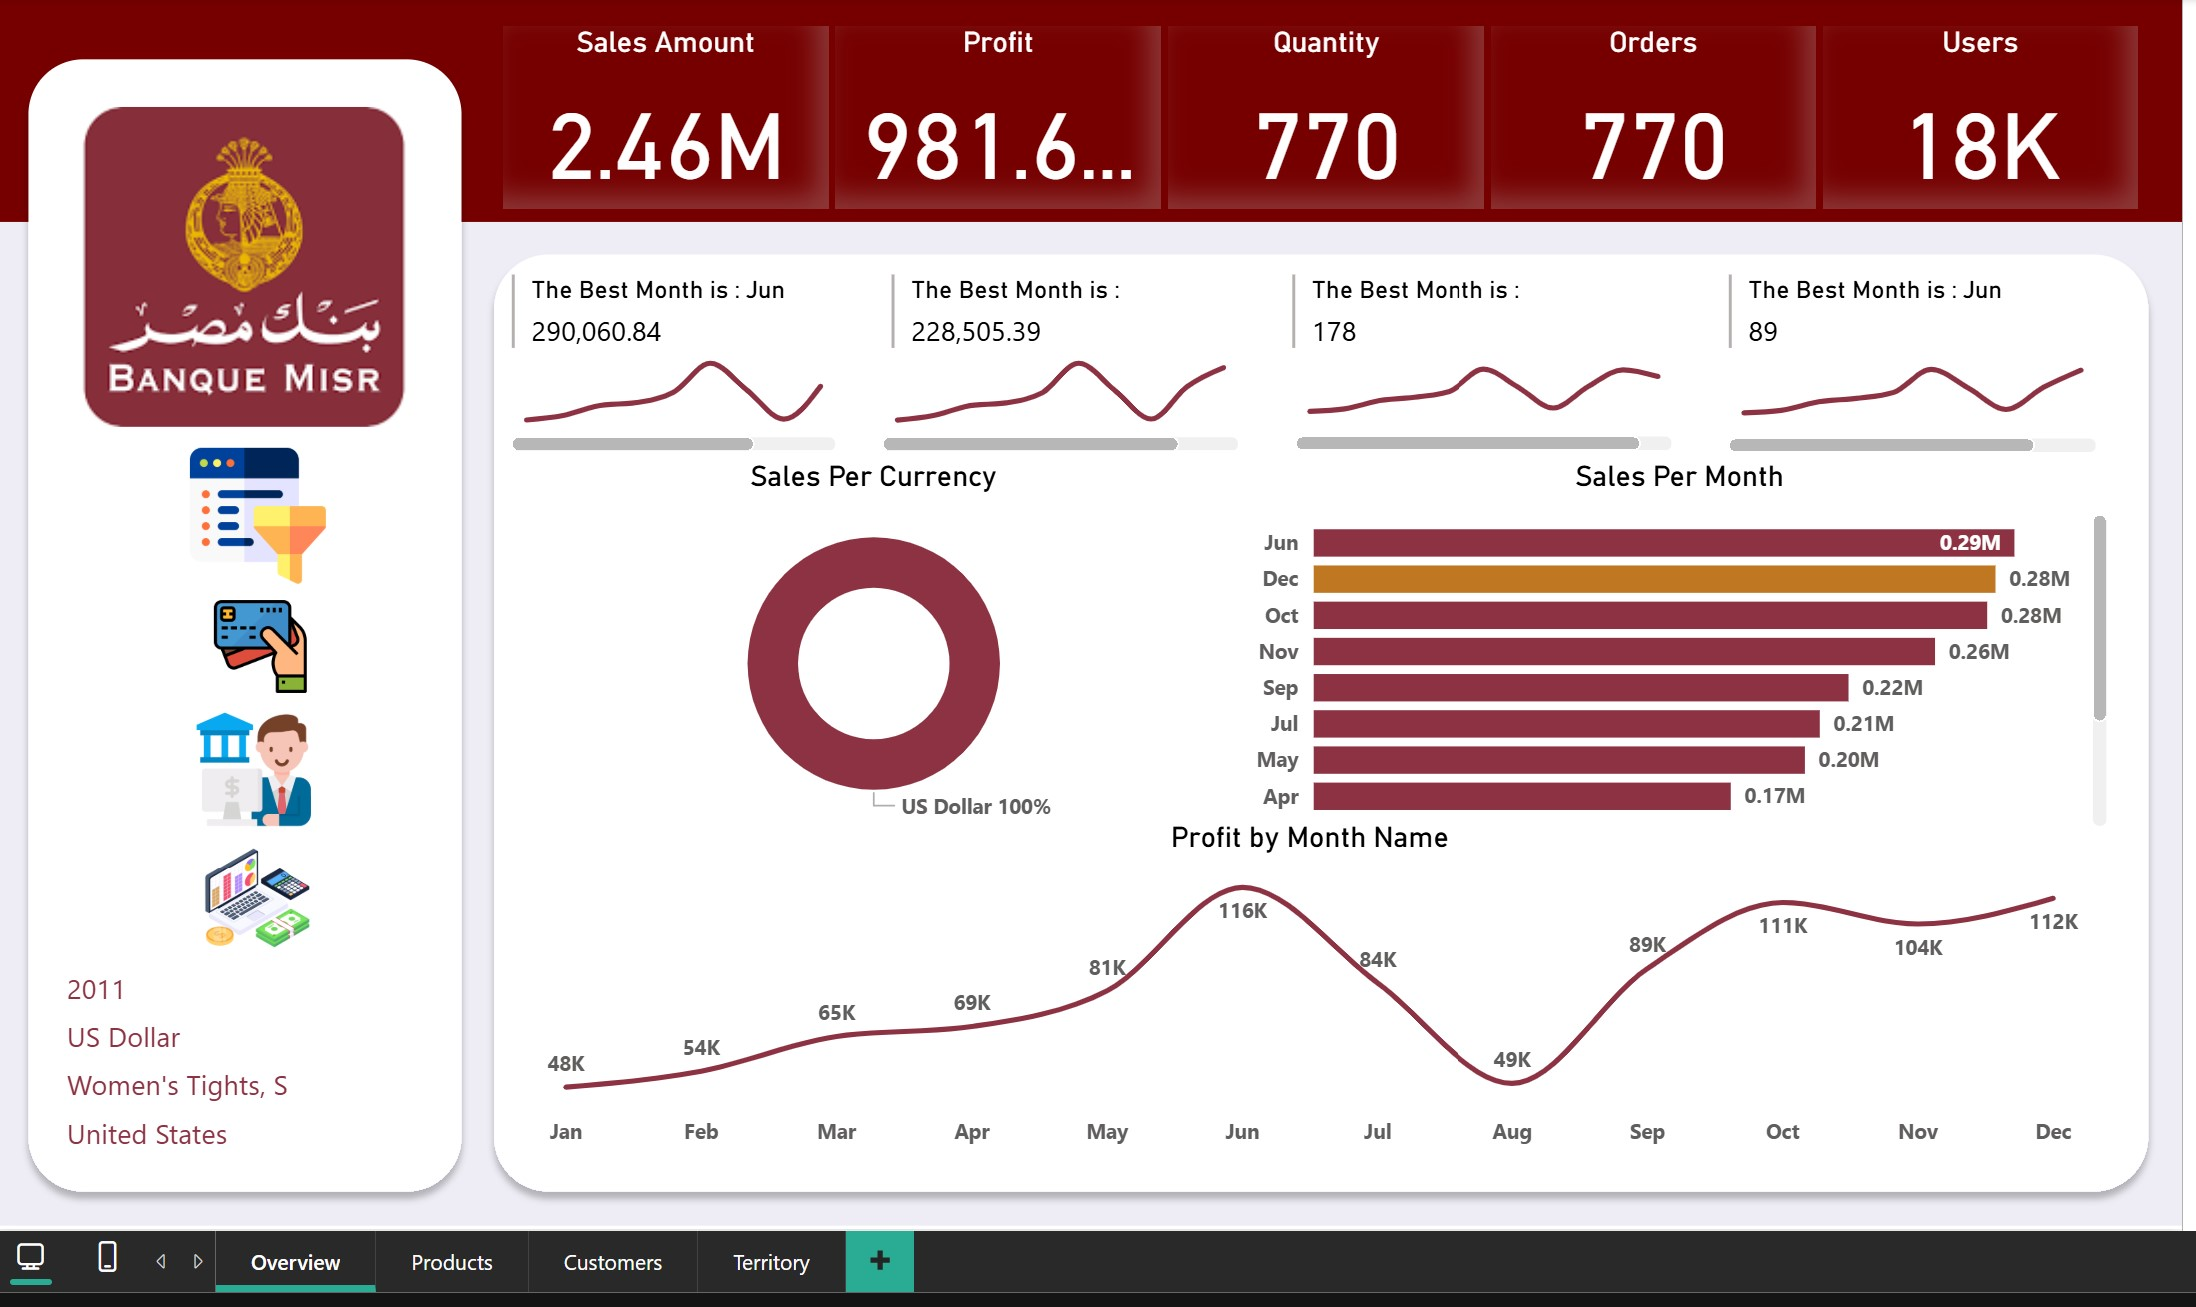

This screenshot's page, from the dashboard's own definition file:
{"tool":"powerbi","page":{"name":"Overview","canvas":[1280,720],"ordinal":0},"visuals":[{"type":"image","box":[47.3,56,201.5,201.5],"z":0},{"type":"donutChart","title":"Sales Per Currency","fields":{"Category":["dim_Currency.CurrencyName"],"Y":["Sum(fact_InternetSales.SalesAmount)"]},"box":[299,270,432.9,218.7],"z":1000},{"type":"clusteredBarChart","title":"Sales Per Month","fields":{"Category":["Calendar.Month Name"],"Y":["Sum(fact_InternetSales.SalesAmount)"]},"box":[732,270,508.8,218.7],"z":2000},{"type":"lineChart","fields":{"Category":["Calendar.Month Name"],"Y":["fact_InternetSales.Profit"]},"box":[298.5,480.1,942.8,200.2],"z":3000},{"type":"multiRowCard","fields":{"Values":["fact_InternetSales.Best Month","Sum(fact_InternetSales.SalesAmount)"]},"box":[298.5,156.2,199,113.2],"z":4000},{"type":"lineChart","fields":{"Y":["Sum(fact_InternetSales.SalesAmount)"],"Category":["Calendar.Month Name"]},"box":[298.5,197.8,199,72.1],"z":5000},{"type":"multiRowCard","fields":{"Values":["fact_InternetSales.Best Month","fact_InternetSales.Profit"]},"box":[520.7,156.2,210.6,113.4],"z":6000},{"type":"lineChart","fields":{"Category":["Calendar.Month Name"],"Y":["fact_InternetSales.Profit"]},"box":[514.9,197.8,217.7,72.1],"z":7000},{"type":"multiRowCard","fields":{"Values":["fact_InternetSales.Best Month","fact_InternetSales.SalesOrderNumber"]},"box":[754.5,156.2,232.6,113.4],"z":8000},{"type":"lineChart","fields":{"Category":["Calendar.Month Name"],"Y":["fact_InternetSales.Orders"]},"box":[756.1,197.8,230.3,71.8],"z":9000},{"type":"multiRowCard","fields":{"Values":["fact_InternetSales.Best Month","Sum(fact_InternetSales.OrderQuantity)"]},"box":[1010.3,156.2,224.5,113.4],"z":10000},{"type":"lineChart","fields":{"Category":["Calendar.Month Name"],"Y":["Sum(fact_InternetSales.OrderQuantity)"]},"box":[1010.3,197.8,224.5,72.9],"z":11000},{"type":"image","box":[82.1,411.7,141.8,77.1],"z":21000},{"type":"image","box":[78.4,488.8,153,74.6],"z":22000},{"type":"image","box":[73.4,347,166.7,64.7],"z":23000},{"type":"card","title":"Sales Amount","fields":{"Values":["Sum(fact_InternetSales.SalesAmount)"]},"box":[298.8,16,190.1,107],"z":24000},{"type":"card","title":"Users","fields":{"Values":["dim_Customer.All users"]},"box":[1070.4,16,183.7,107],"z":25000},{"type":"card","title":"Orders","fields":{"Values":["fact_InternetSales.Orders"]},"box":[876.3,16,190.1,107],"z":26000},{"type":"card","title":"Quantity","fields":{"Values":["Sum(fact_InternetSales.OrderQuantity)"]},"box":[687,16,185.3,107],"z":27000},{"type":"card","title":"Profit","fields":{"Values":["fact_InternetSales.Profit"]},"box":[492.9,16,190.1,107],"z":28000},{"type":"multiRowCard","fields":{"Values":["fact_InternetSales.yearfilter","fact_InternetSales.currencynamefilter","fact_InternetSales.englishproductfilter","fact_InternetSales.territorycountryfilter"]},"box":[38.6,563.4,227.6,125.6],"z":29000},{"type":"image","box":[80.8,257.5,149.3,89.6],"z":30000}]}

Visuals, with their boxes on the page's 1280x720 design canvas (x1, y1, x2, y2). These are canvas units, not pixel positions in the 2196x1307 screenshot, which may show the page scaled, cropped or inside an application window:
image: bbox=[47, 56, 249, 258]
"Sales Per Currency" donutChart: bbox=[299, 270, 732, 489]
"Sales Per Month" clusteredBarChart: bbox=[732, 270, 1241, 489]
lineChart - Calendar.Month Name x fact_InternetSales.Profit: bbox=[298, 480, 1241, 680]
multiRowCard - fact_InternetSales.Best Month x Sum(fact_InternetSales.SalesAmount): bbox=[298, 156, 498, 269]
lineChart - Sum(fact_InternetSales.SalesAmount) x Calendar.Month Name: bbox=[298, 198, 498, 270]
multiRowCard - fact_InternetSales.Best Month x fact_InternetSales.Profit: bbox=[521, 156, 731, 270]
lineChart - Calendar.Month Name x fact_InternetSales.Profit: bbox=[515, 198, 733, 270]
multiRowCard - fact_InternetSales.Best Month x fact_InternetSales.SalesOrderNumber: bbox=[754, 156, 987, 270]
lineChart - Calendar.Month Name x fact_InternetSales.Orders: bbox=[756, 198, 986, 270]
multiRowCard - fact_InternetSales.Best Month x Sum(fact_InternetSales.OrderQuantity): bbox=[1010, 156, 1235, 270]
lineChart - Calendar.Month Name x Sum(fact_InternetSales.OrderQuantity): bbox=[1010, 198, 1235, 271]
image: bbox=[82, 412, 224, 489]
image: bbox=[78, 489, 231, 563]
image: bbox=[73, 347, 240, 412]
"Sales Amount" card: bbox=[299, 16, 489, 123]
"Users" card: bbox=[1070, 16, 1254, 123]
"Orders" card: bbox=[876, 16, 1066, 123]
"Quantity" card: bbox=[687, 16, 872, 123]
"Profit" card: bbox=[493, 16, 683, 123]
multiRowCard - fact_InternetSales.yearfilter x fact_InternetSales.currencynamefilter: bbox=[39, 563, 266, 689]
image: bbox=[81, 258, 230, 347]
